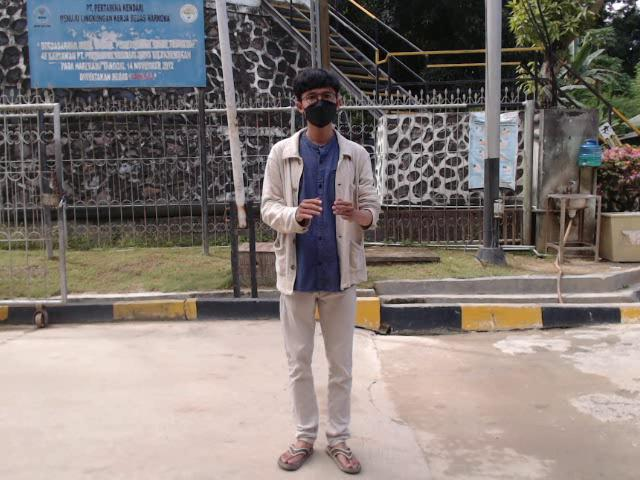mask: (304, 101, 338, 125)
